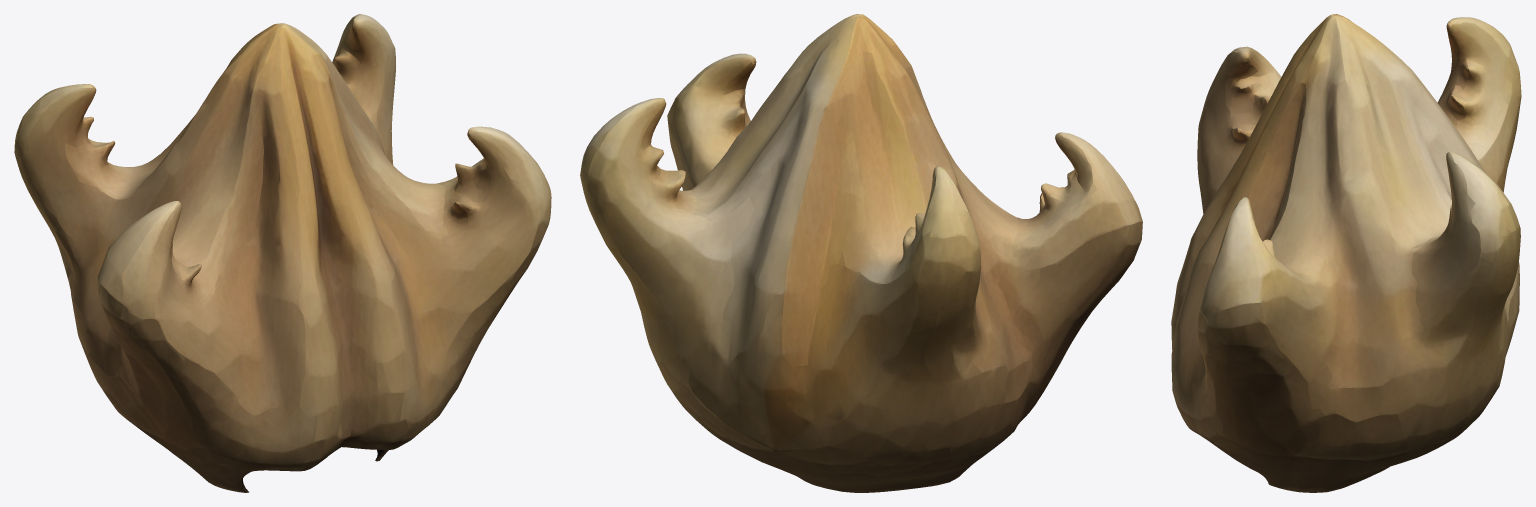
3 renders of one model, left to right at view 1: azimuth 30°, elevation 25°; view 2: azimuth 150°, elevation 25°; view 3: azimuth 270°, elevation 25°, orthographic. The views are drawn at different scales.
Parts seen in each view (by area): view 1: world; view 2: world; view 3: world.
Part boxes in pixels (box(x1,y1,x2,y2)): world: box(14, 14, 551, 492); world: box(580, 14, 1142, 492); world: box(1171, 14, 1521, 492).
Size of the model in its own units: 0.055 by 0.0509 by 0.0371.
Materials: 1 (1 with a texture image).
